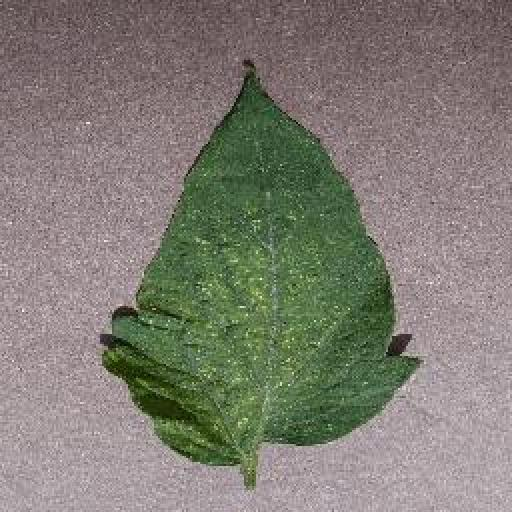Spider Mites: (103, 63, 420, 468)
